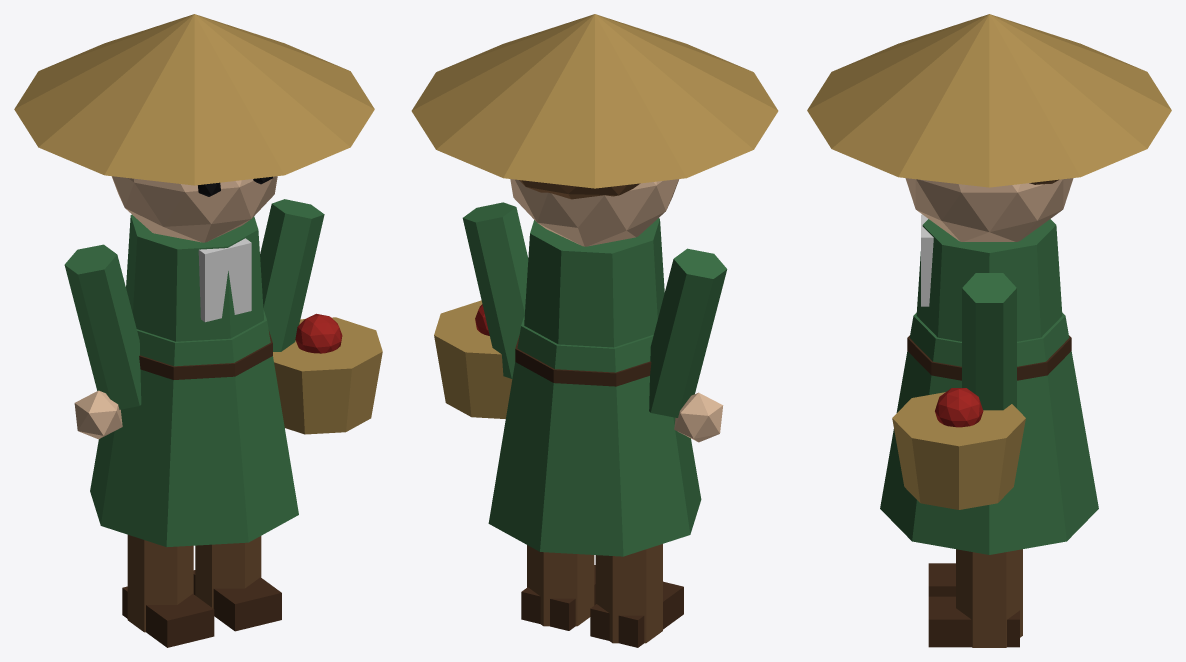
File: SM_GZ_npc_farmer.fbx
The picture shows the model from 3 angles, left to right: view 1: azimuth 30°, elevation 25°; view 2: azimuth 150°, elevation 25°; view 3: azimuth 270°, elevation 25°; orthographic projection.
Visible parts, largest first — view 1: SM_GZ_npc_farmer; view 2: SM_GZ_npc_farmer; view 3: SM_GZ_npc_farmer.
Part boxes in pixels (bbox=[...]): SM_GZ_npc_farmer: bbox=[14, 14, 382, 647]; SM_GZ_npc_farmer: bbox=[411, 14, 778, 647]; SM_GZ_npc_farmer: bbox=[807, 14, 1171, 647].
Size of the model in its own units: 124 by 219 by 120.
